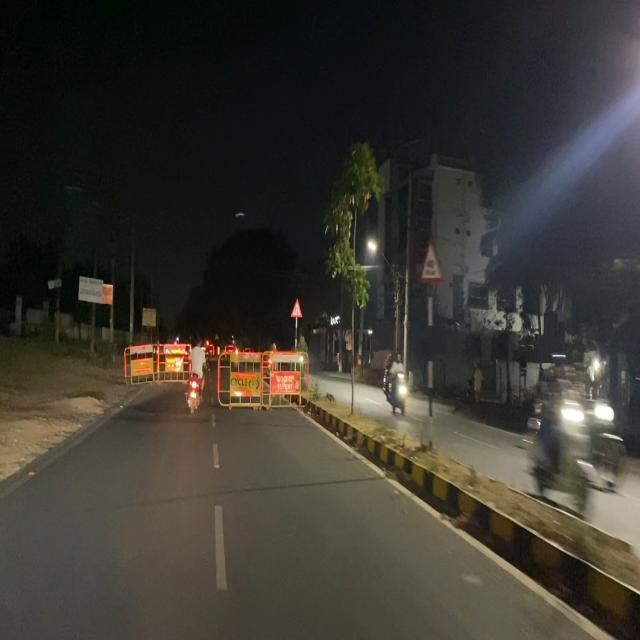bien_cam: (290, 297, 304, 319)
